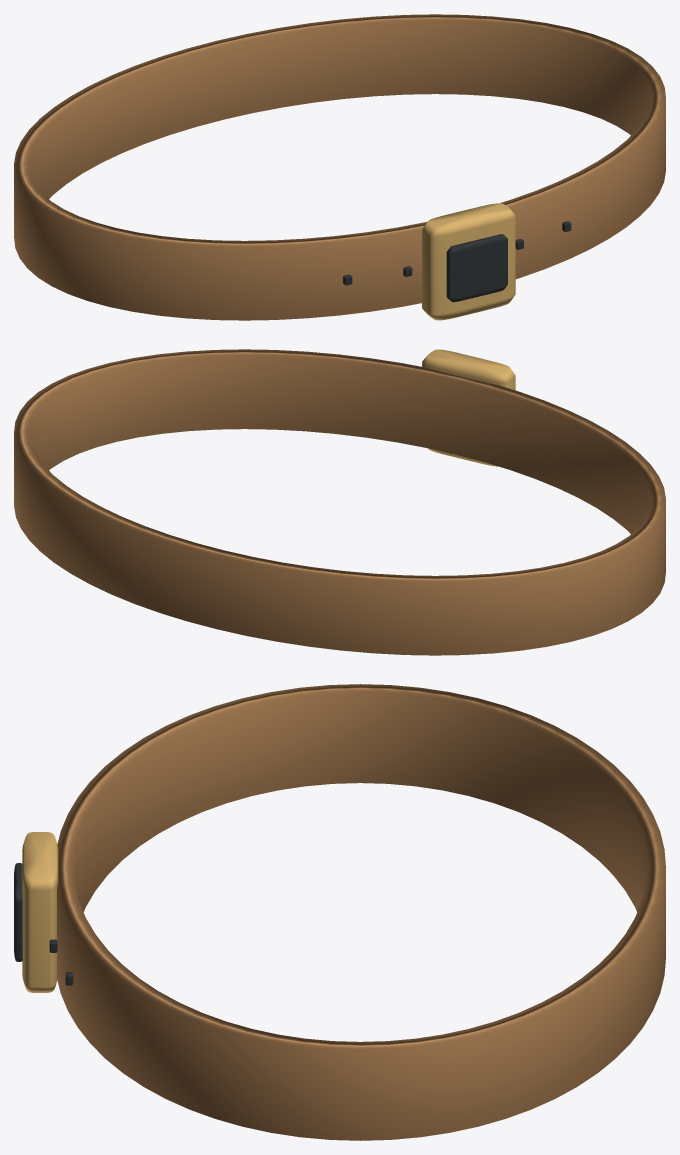
File: 13-belt.glb
3 views of the same model, one above another, from view 1: azimuth 30°, elevation 25°; view 2: azimuth 150°, elevation 25°; view 3: azimuth 270°, elevation 25° (orthographic). The views are drawn at different scales.
Visible parts, largest first — view 1: 13-belt; view 2: 13-belt; view 3: 13-belt.
Part boxes in pixels (x1=…): 13-belt: x1=14, y1=14, x2=665, y2=320; 13-belt: x1=14, y1=349, x2=665, y2=655; 13-belt: x1=14, y1=684, x2=665, y2=1140.
Size of the model in its own units: 0.327 by 0.048 by 0.2465.
